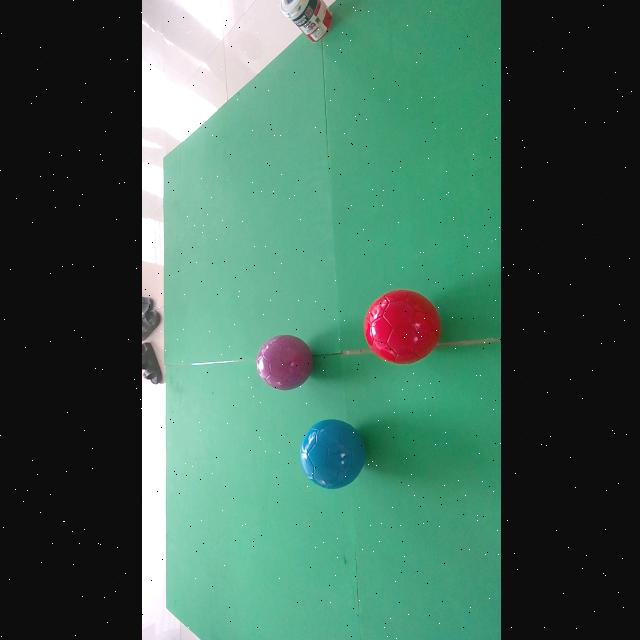B: (300, 419, 364, 489)
P: (255, 335, 312, 390)
R: (362, 289, 439, 364)
